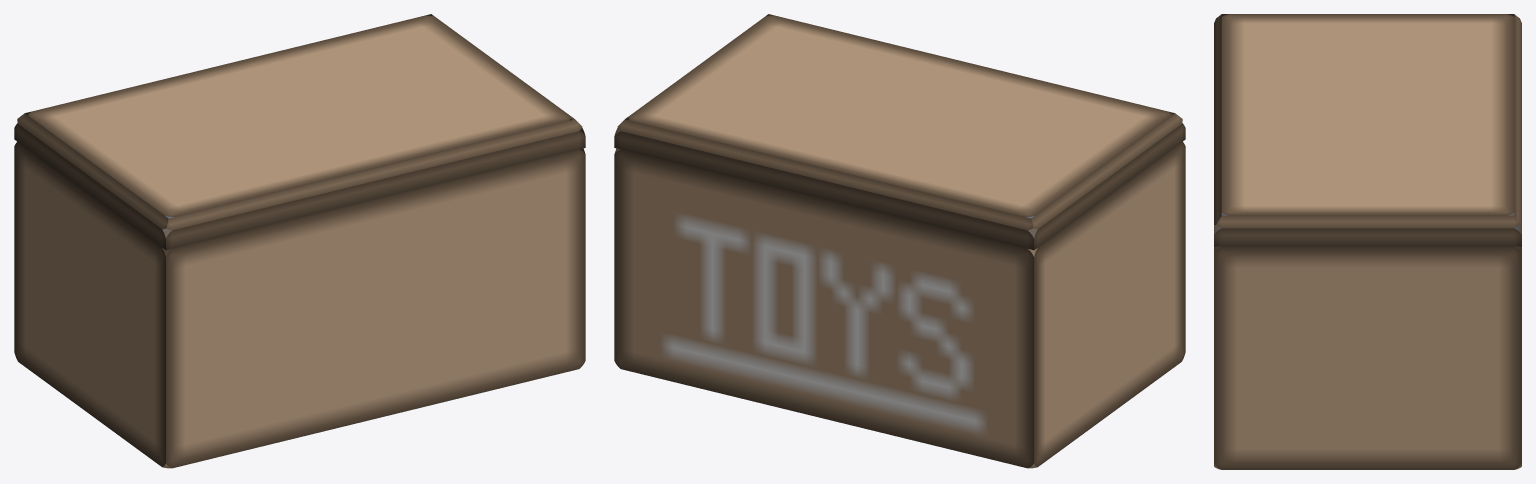
The model's file is ToyChest.fbx.
The picture shows the model from 3 angles, left to right: view 1: azimuth 30°, elevation 25°; view 2: azimuth 150°, elevation 25°; view 3: azimuth 270°, elevation 25°; orthographic projection.
Visible parts, largest first — view 1: Base, Lid; view 2: Base, Lid; view 3: Lid, Base.
Boxes of the visible parts, bbox=[...] form: Base: bbox=[14, 141, 585, 468]; Lid: bbox=[14, 14, 585, 250]; Base: bbox=[614, 141, 1185, 468]; Lid: bbox=[614, 14, 1185, 250]; Lid: bbox=[1214, 14, 1521, 246]; Base: bbox=[1214, 212, 1521, 469].
Size of the model in its own units: 100 by 56.25 by 62.5.
1 material, 1 textured.
